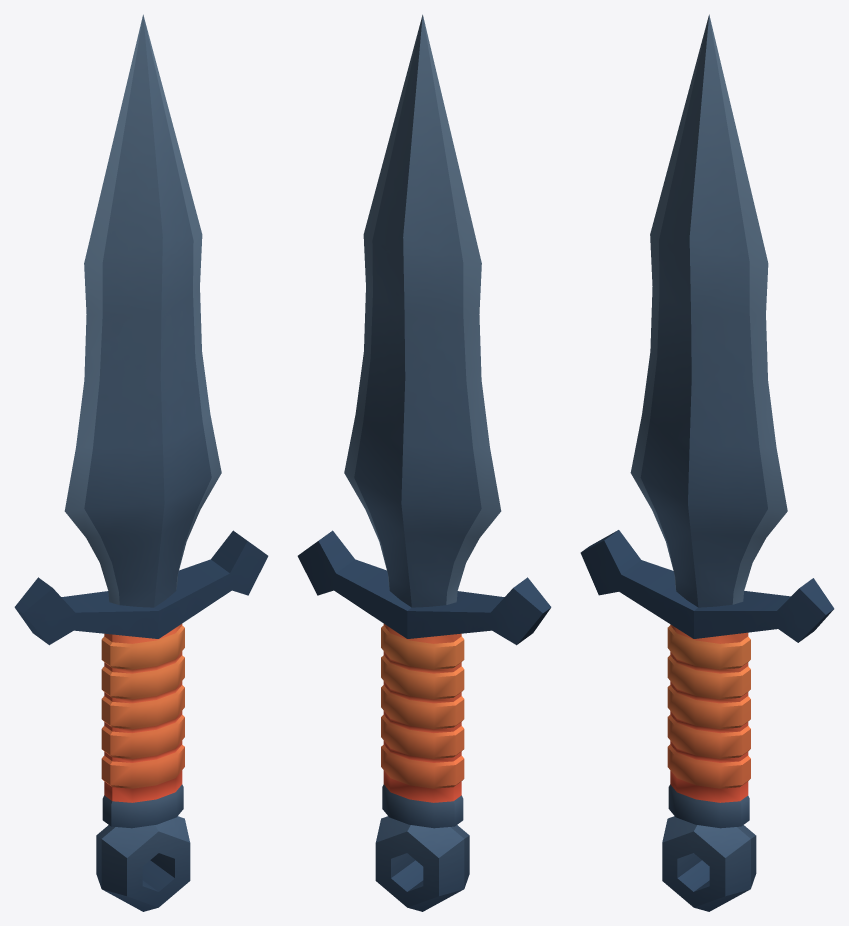
The model's file is Dagger.glb.
The picture shows the model from 3 angles, left to right: view 1: azimuth 30°, elevation 25°; view 2: azimuth 150°, elevation 25°; view 3: azimuth 330°, elevation 25°; orthographic projection.
Visible parts, largest first — view 1: Dagger; view 2: Dagger; view 3: Dagger.
Boxes of the visible parts, x1,y1,x2,y2 form: Dagger: [14, 14, 268, 911]; Dagger: [297, 14, 551, 911]; Dagger: [580, 14, 834, 911].
Size of the model in its own units: 0.466 by 1.63 by 0.1403.
1 material, 1 textured.
